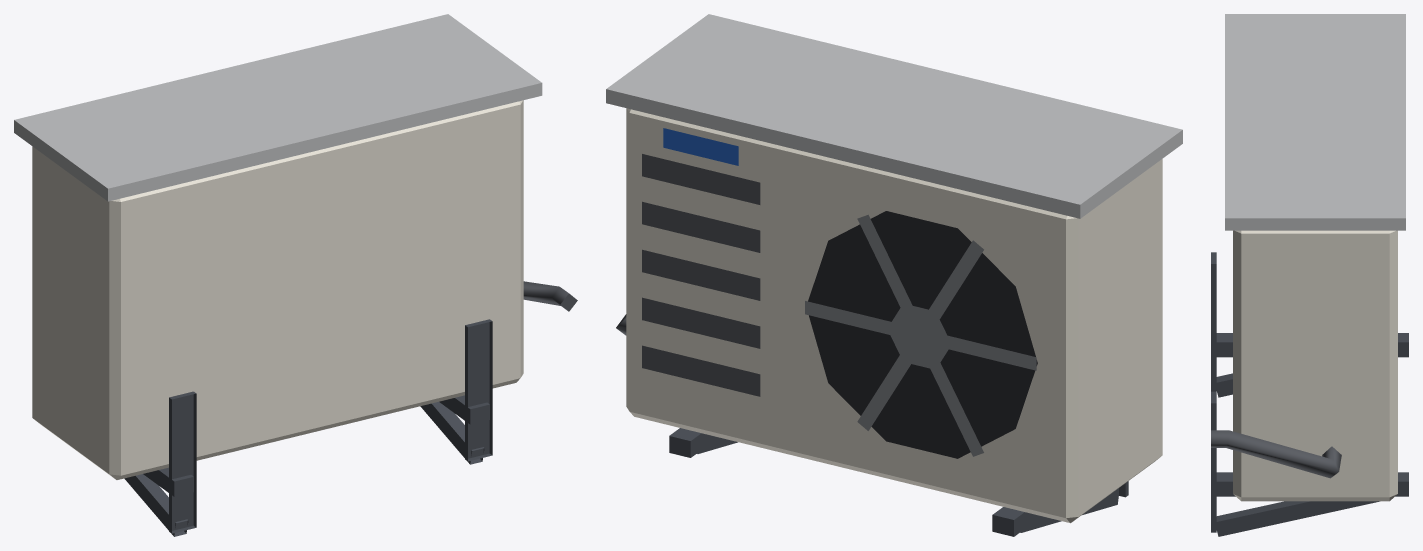
File: prop_ac_wall.glb
3 views of the same model, side by side, from view 1: azimuth 30°, elevation 25°; view 2: azimuth 150°, elevation 25°; view 3: azimuth 270°, elevation 25° (orthographic). The views are drawn at different scales.
Visible parts, largest first — view 1: prop_ac_wall__mesh; view 2: prop_ac_wall__mesh; view 3: prop_ac_wall__mesh.
Part boxes in pixels (x1,y1,x2,y2): prop_ac_wall__mesh: (14,14,577,536); prop_ac_wall__mesh: (606,14,1182,536); prop_ac_wall__mesh: (1211,14,1408,536).
Size of the model in its own units: 0.938 by 0.6996 by 0.36.
1 material, 1 textured.
